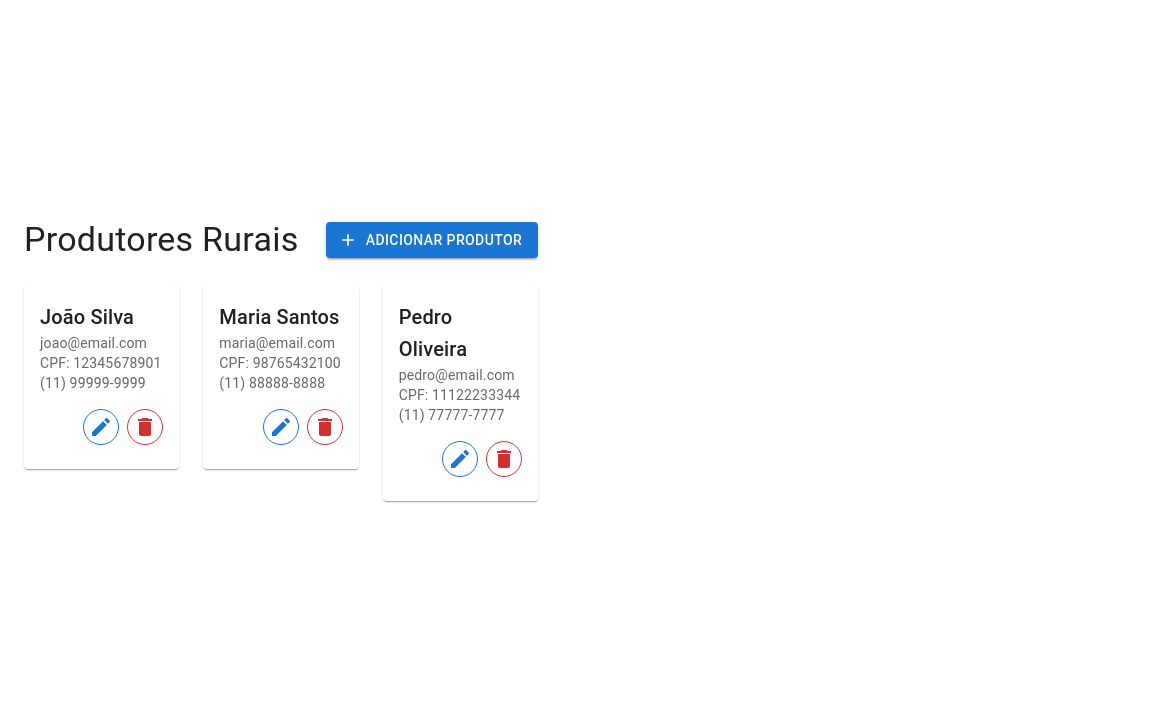
Scenario: ProducerPage › should handle producer editing
Expected: the text "João Silva" is shown, [40,305,134,329]
Click the 1st button with test id "edit-producer": (101, 427) [83,409,119,445]
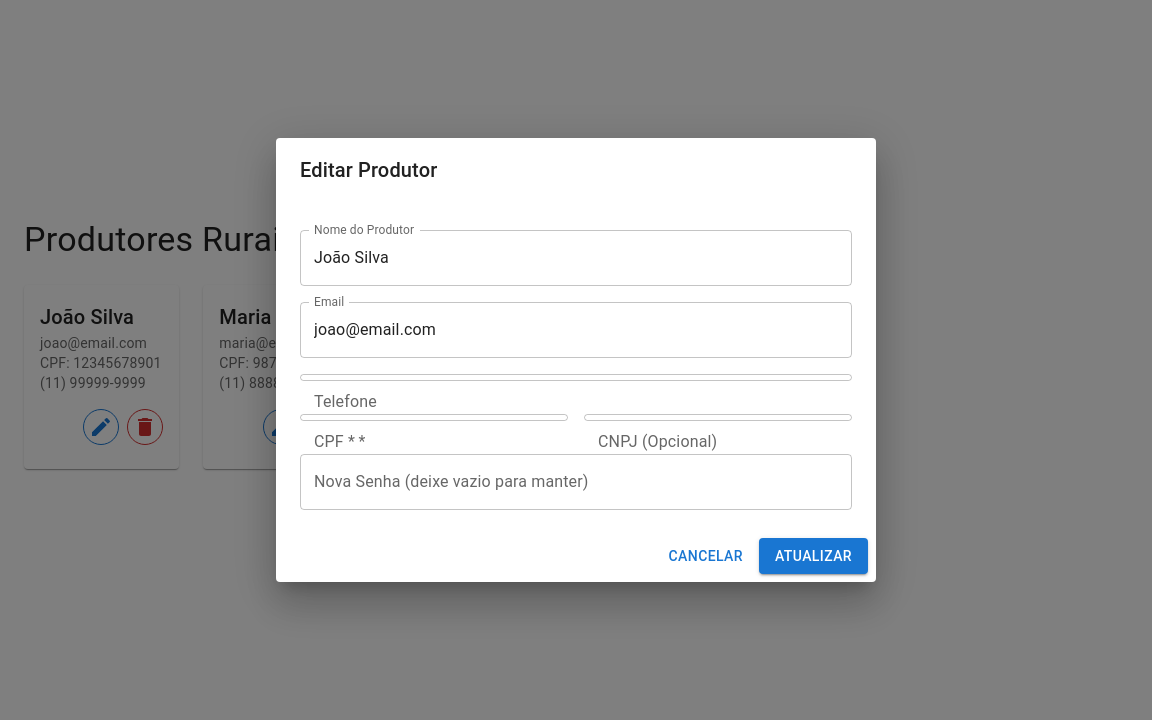
Expected: the heading "Editar Produtor" is shown, [300,158,437,182]
